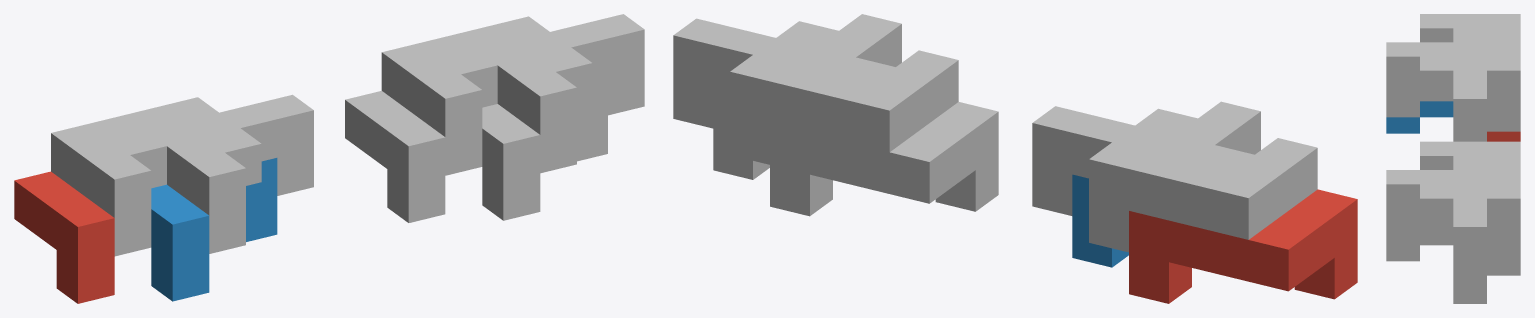
The model's file is tiling.obj.
3 views of the same model, side by side, from view 1: azimuth 30°, elevation 25°; view 2: azimuth 150°, elevation 25°; view 3: azimuth 270°, elevation 25° (orthographic). The views are drawn at different scales.
Parts seen in each view (by area): view 1: copy_1_domain_8, copy_1_domain_4, copy_1_domain_7, copy_1_domain_3, copy_1_domain_5, copy_1_domain_1, copy_1_domain_2, copy_1_domain_6; view 2: copy_1_domain_3, copy_1_domain_7, copy_1_domain_1, copy_1_domain_5, copy_1_domain_8, copy_1_domain_4, copy_1_domain_2, copy_1_domain_6; view 3: copy_1_domain_8, copy_1_domain_4, copy_1_domain_7, copy_1_domain_3, copy_1_domain_6, copy_1_domain_2, copy_1_domain_5, copy_1_domain_1.
Boxes of the visible parts, x1,y1,x2,y2 form: copy_1_domain_8: (477, 14, 644, 173); copy_1_domain_4: (146, 94, 313, 253); copy_1_domain_7: (381, 16, 549, 175); copy_1_domain_3: (51, 97, 218, 256); copy_1_domain_5: (345, 90, 445, 222); copy_1_domain_1: (14, 171, 114, 303); copy_1_domain_2: (151, 158, 277, 301); copy_1_domain_6: (482, 77, 607, 220); copy_1_domain_3: (1089, 138, 1317, 252); copy_1_domain_7: (730, 50, 958, 164); copy_1_domain_1: (1129, 189, 1357, 303); copy_1_domain_5: (770, 102, 998, 216); copy_1_domain_8: (673, 14, 901, 128); copy_1_domain_4: (1032, 101, 1260, 215); copy_1_domain_2: (1072, 174, 1128, 267); copy_1_domain_6: (713, 87, 769, 179); copy_1_domain_8: (1386, 170, 1486, 287); copy_1_domain_4: (1386, 42, 1486, 141); copy_1_domain_7: (1420, 141, 1520, 259); copy_1_domain_3: (1420, 14, 1520, 131); copy_1_domain_6: (1386, 229, 1486, 303); copy_1_domain_2: (1386, 101, 1453, 133); copy_1_domain_5: (1487, 259, 1520, 275); copy_1_domain_1: (1487, 131, 1520, 141).
Bounding box in the file's own units: 16 × 3 × 4.
